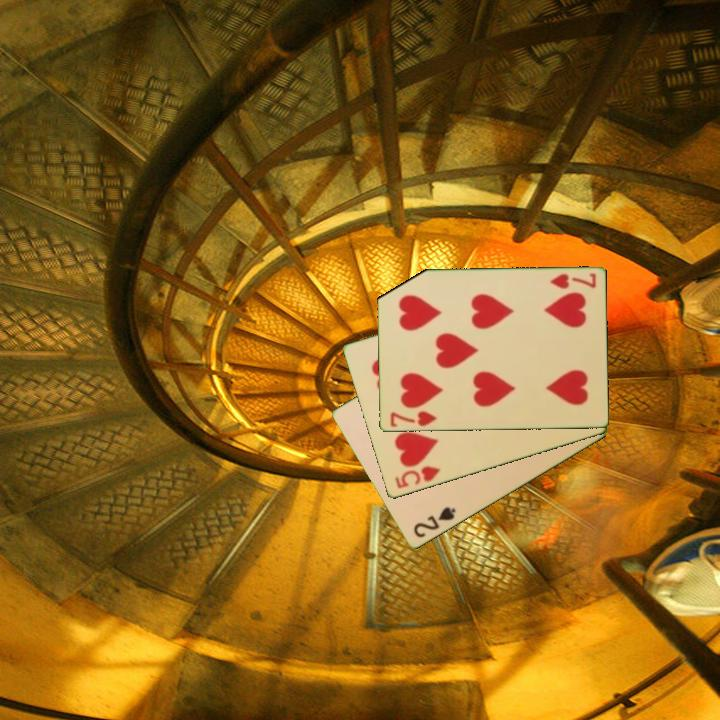2s: (410, 503, 459, 541)
5h: (391, 463, 443, 492)
7h: (386, 408, 439, 430), (547, 270, 598, 292)
